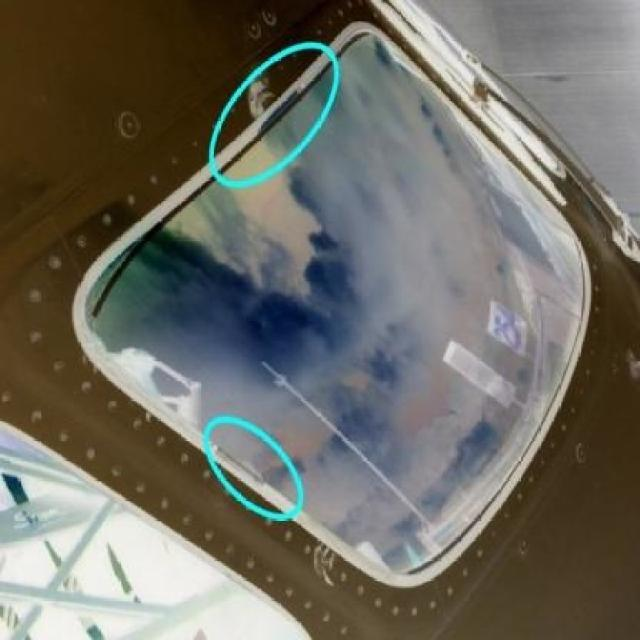crack: (315, 540, 338, 588)
